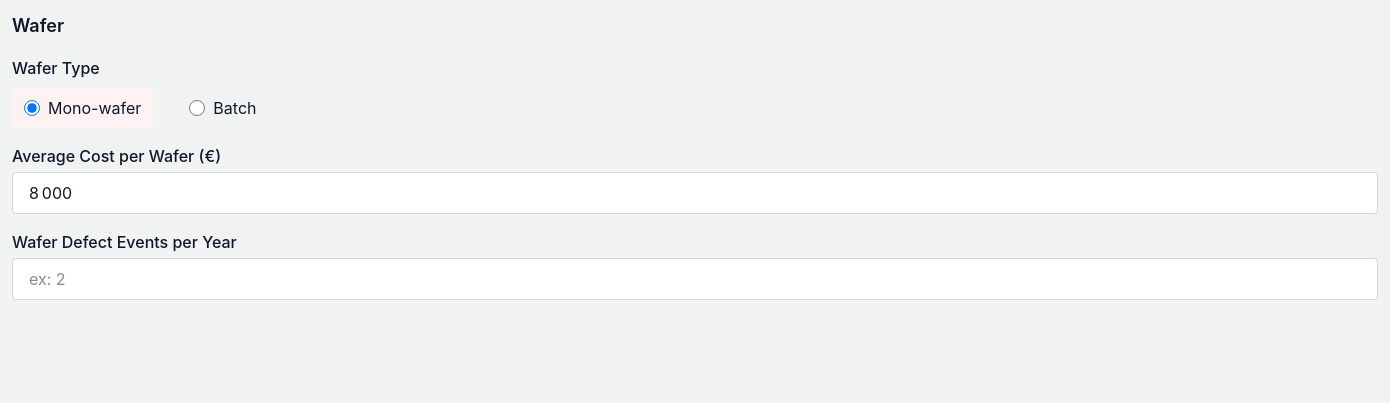
Test: WaferInputs › shows wafer quantity field when Batch is selected
The width and height of the screenshot is (1390, 403).
Click the radio button labelled "Batch" at (197, 108), box [189, 100, 205, 116]
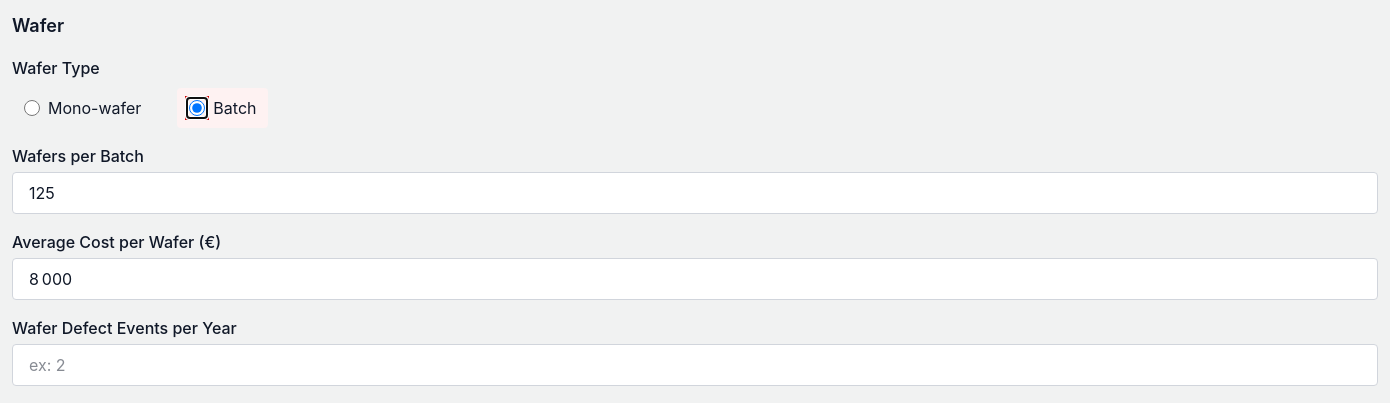
Result: the number field labelled "Wafers per Batch" is shown at [12, 172, 1378, 214]
